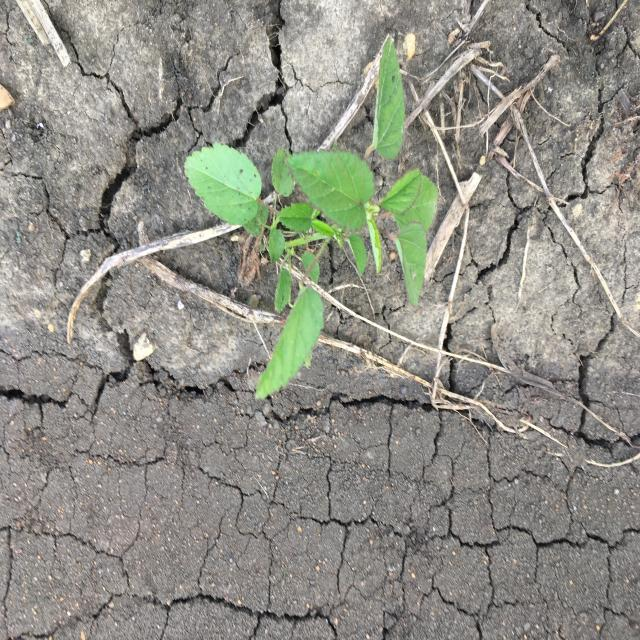PricklySida: (183, 33, 442, 403)
